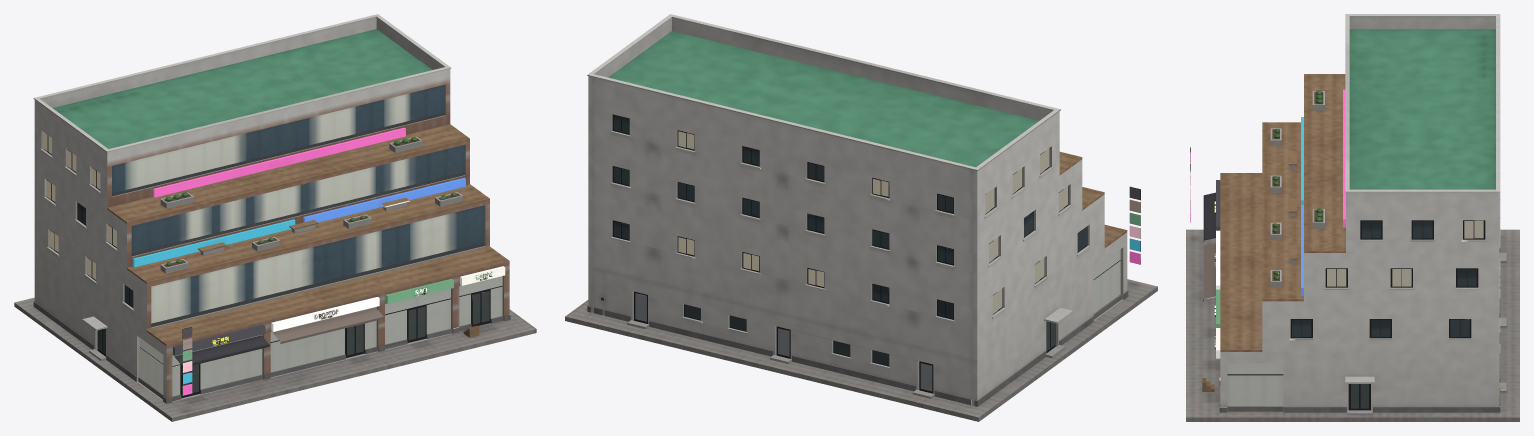
File: IlsanTerracePark02_LOD2.fbx
The picture shows the model from 3 angles, left to right: view 1: azimuth 30°, elevation 25°; view 2: azimuth 150°, elevation 25°; view 3: azimuth 270°, elevation 25°; orthographic projection. The views are drawn at different scales.
Parts seen in each view (by area): view 1: IlsanTerracePark02_LOD2; view 2: IlsanTerracePark02_LOD2; view 3: IlsanTerracePark02_LOD2.
Boxes of the visible parts, box(x1,y1,x2,y2) form: IlsanTerracePark02_LOD2: box(14, 14, 536, 421); IlsanTerracePark02_LOD2: box(565, 14, 1157, 421); IlsanTerracePark02_LOD2: box(1186, 14, 1519, 421).
Bounding box in the file's own units: 32 × 17.78 × 23.9.
Materials: 1 (1 with a texture image).
